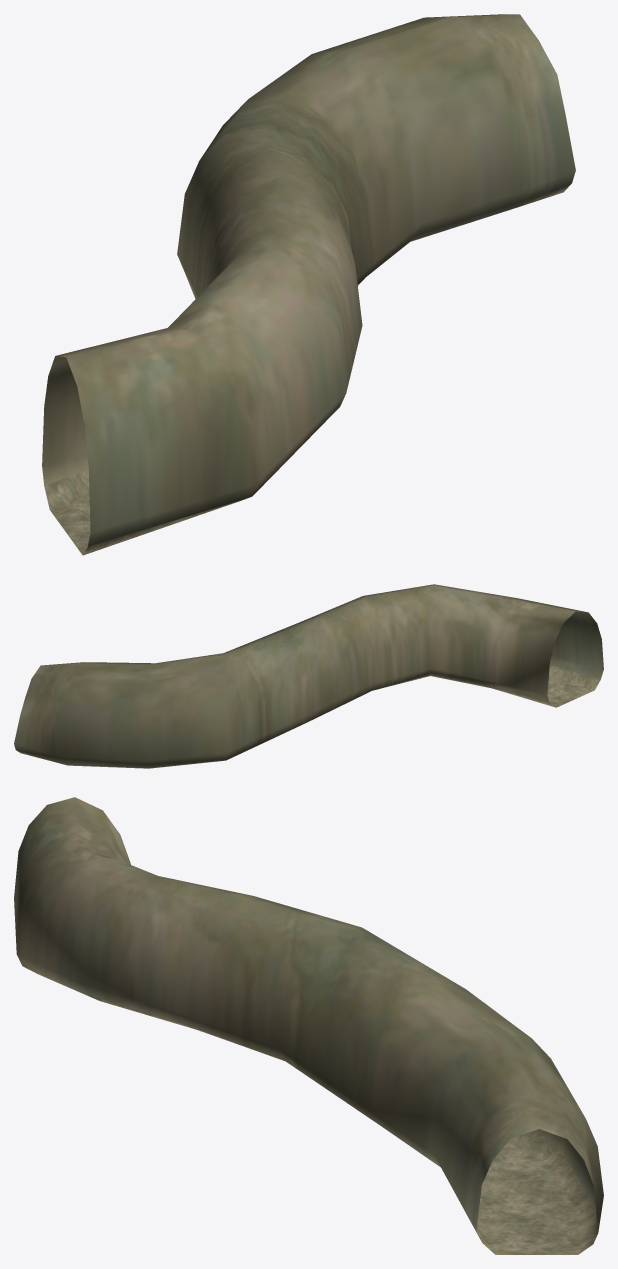
File: OVERHILL_A_01_CM_TUNNEL_07.fbx
3 renders of one model, top to bottom at view 1: azimuth 30°, elevation 25°; view 2: azimuth 150°, elevation 25°; view 3: azimuth 270°, elevation 25°, orthographic. The views are drawn at different scales.
Visible parts, largest first — view 1: OVERHILL_A_01_CM_TUNNEL_07; view 2: OVERHILL_A_01_CM_TUNNEL_07; view 3: OVERHILL_A_01_CM_TUNNEL_07.
Boxes of the visible parts, left/top/right/bottom form: OVERHILL_A_01_CM_TUNNEL_07: left=42, top=14, right=575, bottom=555; OVERHILL_A_01_CM_TUNNEL_07: left=14, top=584, right=603, bottom=768; OVERHILL_A_01_CM_TUNNEL_07: left=14, top=797, right=603, bottom=1254.
Bounding box in the file's own units: 155764 × 48277 × 133287.
Materials: 1 (1 with a texture image).
